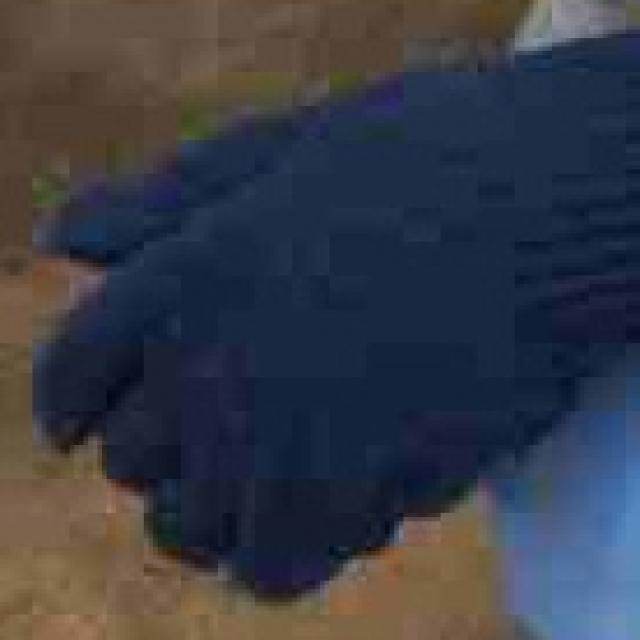vai_vun: (37, 38, 640, 593)
